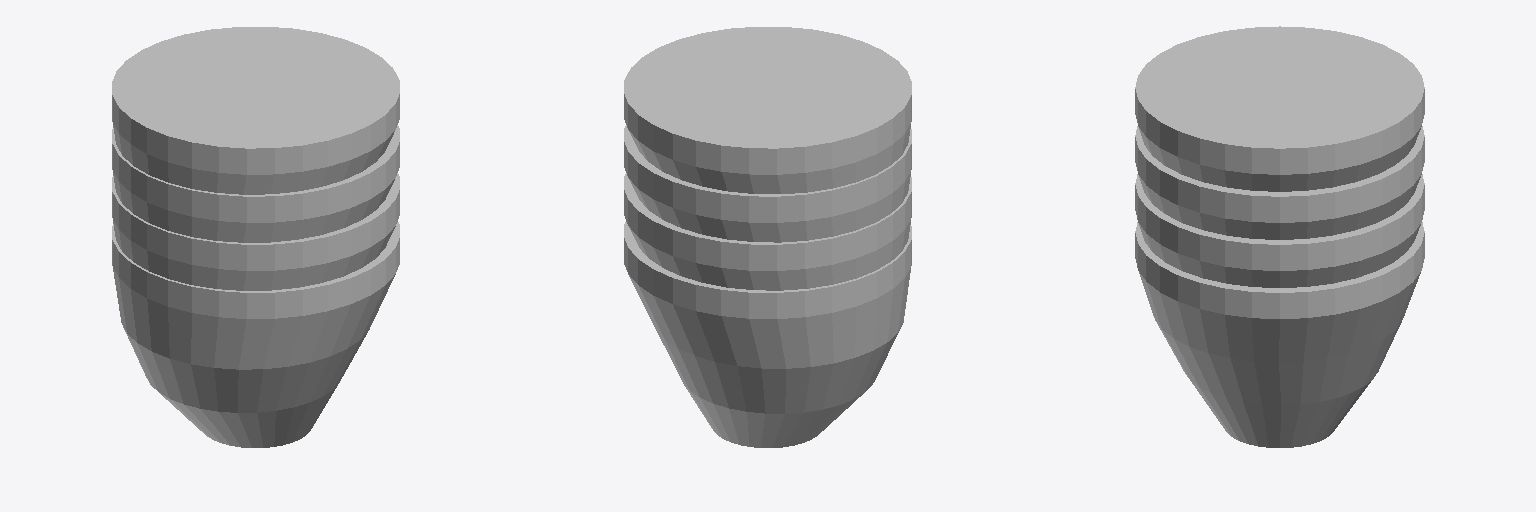
The model's file is Bowls_2_Cylinder.005.obj.
The picture shows the model from 3 angles: view 1: azimuth 30°, elevation 25°; view 2: azimuth 150°, elevation 25°; view 3: azimuth 270°, elevation 25°; orthographic projection.
Visible parts, largest first — view 1: Bowls_2_Cylinder.005; view 2: Bowls_2_Cylinder.005; view 3: Bowls_2_Cylinder.005.
Part boxes in pixels (x1,y1,x2,y2): Bowls_2_Cylinder.005: (112, 27, 399, 447); Bowls_2_Cylinder.005: (624, 27, 911, 447); Bowls_2_Cylinder.005: (1135, 26, 1424, 447).
Size of the model in its own units: 0.32 by 0.4108 by 0.32.